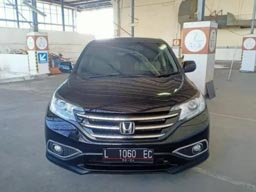plat: (100, 148, 153, 159)
